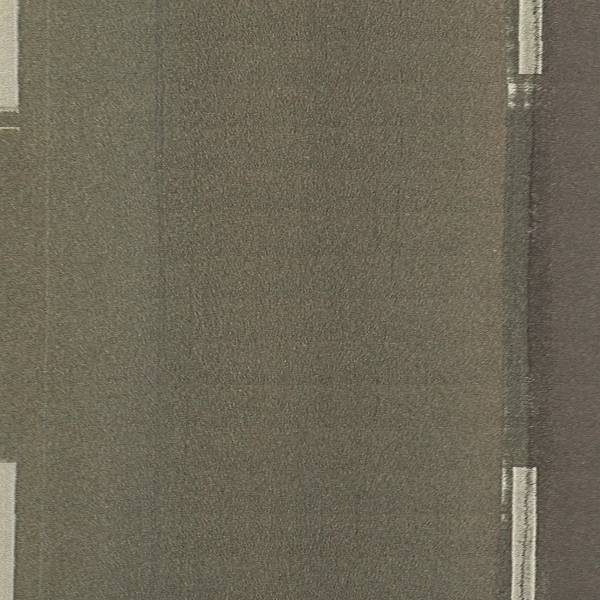road_damage: (335, 131, 409, 600), (516, 84, 542, 463)
